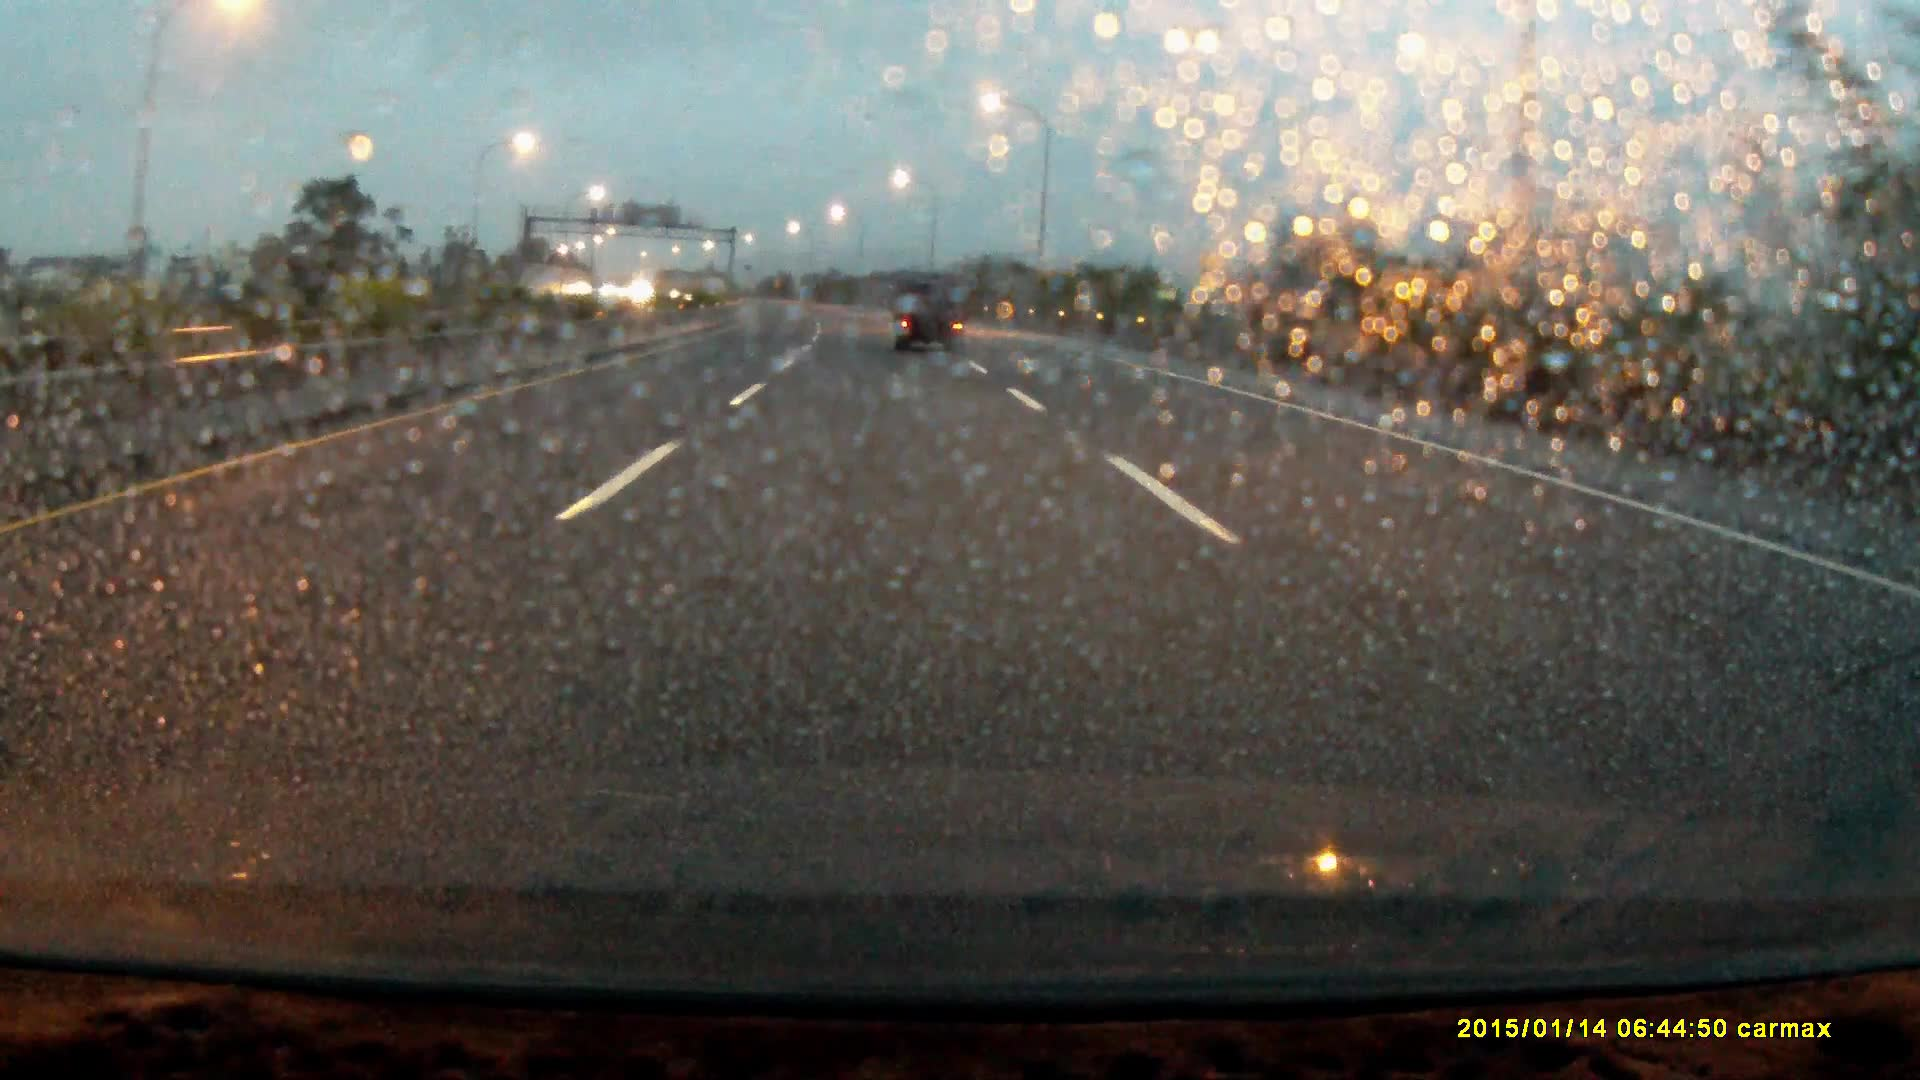vehicle: (894, 272, 967, 353)
